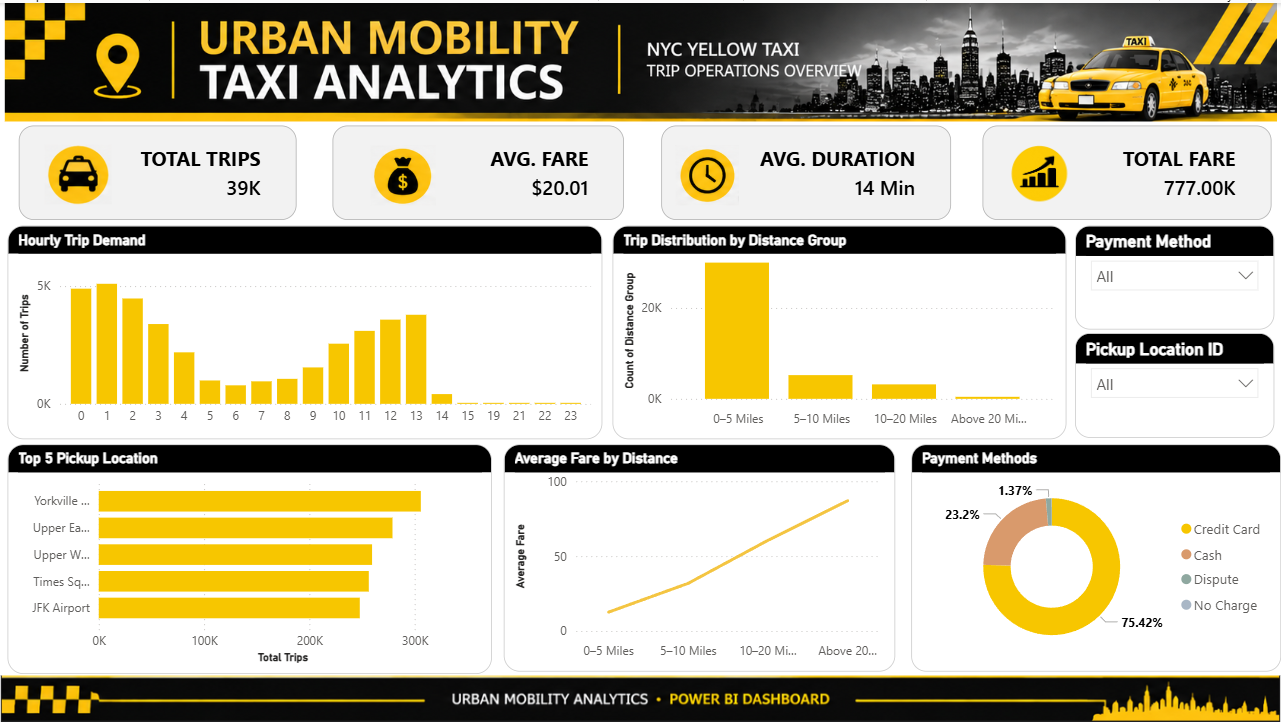

Layout of this report page (visuals, bound fields, positions):
{"tool":"powerbi","page":{"name":"Page 1","canvas":[1280,720],"ordinal":0},"visuals":[{"type":"cardVisual","fields":{"Data":["yellow_taxi_cleaned.Total Trips"]},"box":[18.3,122.3,277.6,94.2],"z":0},{"type":"cardVisual","fields":{"Data":["yellow_taxi_cleaned.Average Fare"]},"box":[332.6,122.3,291,94.2],"z":1000},{"type":"donutChart","title":"Payment Methods","fields":{"Y":["CountNonNull(yellow_taxi_cleaned.payment_method)"],"Category":["yellow_taxi_cleaned.payment_method"]},"box":[910.6,441.2,369.3,227.4],"z":2000},{"type":"cardVisual","fields":{"Data":["yellow_taxi_cleaned.AVG. DURATION"]},"box":[660.3,122.3,289.8,94.2],"z":3000},{"type":"slicer","title":"Payment Method","fields":{"Values":["yellow_taxi_cleaned.payment_method"]},"box":[1073.6,222.6,199.3,103.9],"z":4000},{"type":"slicer","title":"Pickup Location ID","fields":{"Values":["taxi_zone_lookup.Zone"]},"box":[1073.6,330.2,199.3,105.2],"z":5000},{"type":"clusteredColumnChart","title":"Hourly Trip Demand","fields":{"Category":["yellow_taxi_cleaned.Pickup Hour"],"Y":["yellow_taxi_cleaned.TOTAL TRIPS"]},"box":[7.3,222.6,594.3,214],"z":6000},{"type":"clusteredBarChart","title":"Top 5 Pickup Location","fields":{"Y":["Sum(yellow_taxi_cleaned.pulocationid)"],"Category":["taxi_zone_lookup.Zone"]},"box":[7,441.2,484.2,229.9],"z":7000},{"type":"lineChart","title":"Average Fare by Distance","fields":{"Category":["yellow_taxi_cleaned.Distance Group"],"Y":["Avg(yellow_taxi_cleaned.fare_amount)"]},"box":[503.4,441.2,391.3,227.4],"z":8000},{"type":"areaChart","title":"Total Fare by Pickup Hour","fields":{"Y":["yellow_taxi_cleaned.Total Fare Amount"],"Category":["yellow_taxi_cleaned.Pickup Hour"]},"box":[611.4,222.6,453.7,214],"z":9000},{"type":"image","box":[672.6,141.8,69.7,59.9],"z":10000},{"type":"cardVisual","fields":{"Data":["yellow_taxi_cleaned.Total Fare Amount"]},"box":[981.9,122.3,288.6,94.2],"z":11000},{"type":"image","box":[0,0,1280.3,118.6],"z":12000},{"type":"image","box":[41.6,140.6,73.4,59.9],"z":13000},{"type":"image","box":[365.6,141.8,73.4,59.9],"z":14000},{"type":"image","box":[0,672.6,1280.3,47.7],"z":15000},{"type":"image","box":[1002.7,140.6,70.9,59.9],"z":16000}]}

Visuals, with their boxes in screenshot pixels (x1, y1, x2, y2), scaled from the page's 1280x720 canvas onto the 1281x722 screenshot:
cardVisual - yellow_taxi_cleaned.Total Trips: x1=18, y1=123, x2=296, y2=217
cardVisual - yellow_taxi_cleaned.Average Fare: x1=333, y1=123, x2=624, y2=217
"Payment Methods" donutChart: x1=911, y1=442, x2=1280, y2=670
cardVisual - yellow_taxi_cleaned.AVG. DURATION: x1=661, y1=123, x2=951, y2=217
"Payment Method" slicer: x1=1074, y1=223, x2=1274, y2=327
"Pickup Location ID" slicer: x1=1074, y1=331, x2=1274, y2=437
"Hourly Trip Demand" clusteredColumnChart: x1=7, y1=223, x2=602, y2=438
"Top 5 Pickup Location" clusteredBarChart: x1=7, y1=442, x2=492, y2=673
"Average Fare by Distance" lineChart: x1=504, y1=442, x2=895, y2=670
"Total Fare by Pickup Hour" areaChart: x1=612, y1=223, x2=1066, y2=438
image: x1=673, y1=142, x2=743, y2=202
cardVisual - yellow_taxi_cleaned.Total Fare Amount: x1=983, y1=123, x2=1271, y2=217
image: x1=0, y1=0, x2=1280, y2=119
image: x1=42, y1=141, x2=115, y2=201
image: x1=366, y1=142, x2=439, y2=202
image: x1=0, y1=674, x2=1280, y2=721
image: x1=1003, y1=141, x2=1074, y2=201
